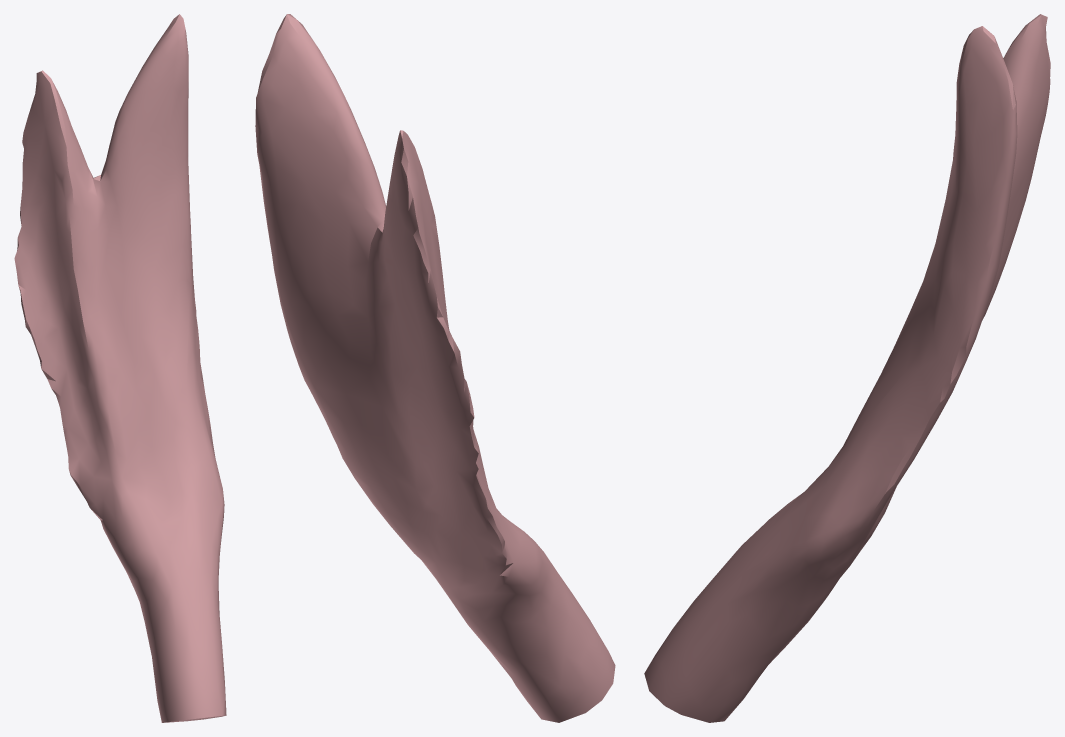
Rendered from fma46147_mm1960.glb.
The picture shows the model from 3 angles, left to right: view 1: azimuth 30°, elevation 25°; view 2: azimuth 150°, elevation 25°; view 3: azimuth 270°, elevation 25°; orthographic projection. The views are drawn at different scales.
Visible parts, largest first — view 1: FMA46147_MM1960; view 2: FMA46147_MM1960; view 3: FMA46147_MM1960.
Part boxes in pixels (<box>): FMA46147_MM1960: <box>14,14,226,722</box>; FMA46147_MM1960: <box>255,14,615,722</box>; FMA46147_MM1960: <box>644,14,1050,722</box>.
Size of the model in its own units: 0.0111 by 0.0394 by 0.0192.
